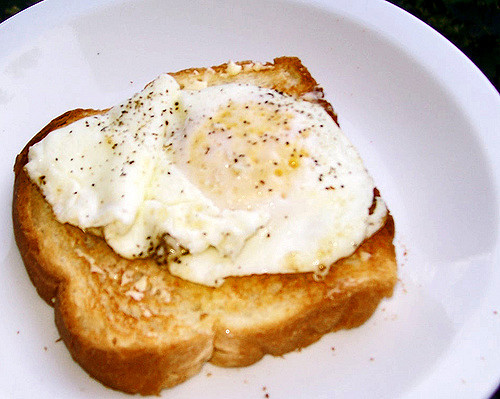fried egg: (86, 104, 334, 234)
slice of bread: (68, 268, 288, 333)
